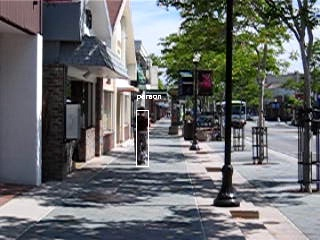person: (133, 108, 152, 165), (132, 108, 151, 165), (134, 108, 153, 165), (133, 107, 152, 164), (133, 109, 152, 166)
target_negative: (44, 39, 262, 66), (145, 168, 285, 189), (134, 197, 254, 212), (213, 109, 311, 124), (117, 225, 295, 230), (200, 212, 214, 221)
